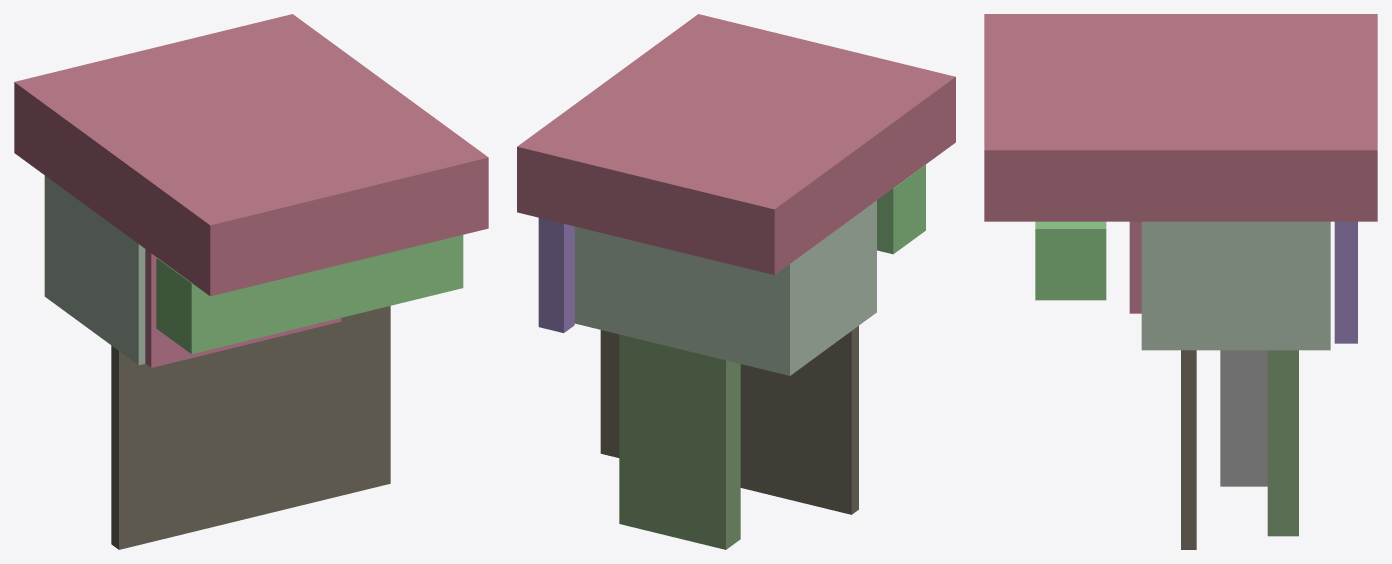
3 views of the same model, side by side, from view 1: azimuth 30°, elevation 25°; view 2: azimuth 150°, elevation 25°; view 3: azimuth 270°, elevation 25° (orthographic). The views are drawn at different scales.
Parts seen in each view (by area): view 1: world; view 2: world; view 3: world.
Part boxes in pixels (x1,y1,x2,y2): world: (14, 14, 488, 549); world: (517, 14, 955, 549); world: (984, 14, 1377, 549).
Size of the model in its own units: 4.1 by 5.9 by 5.
